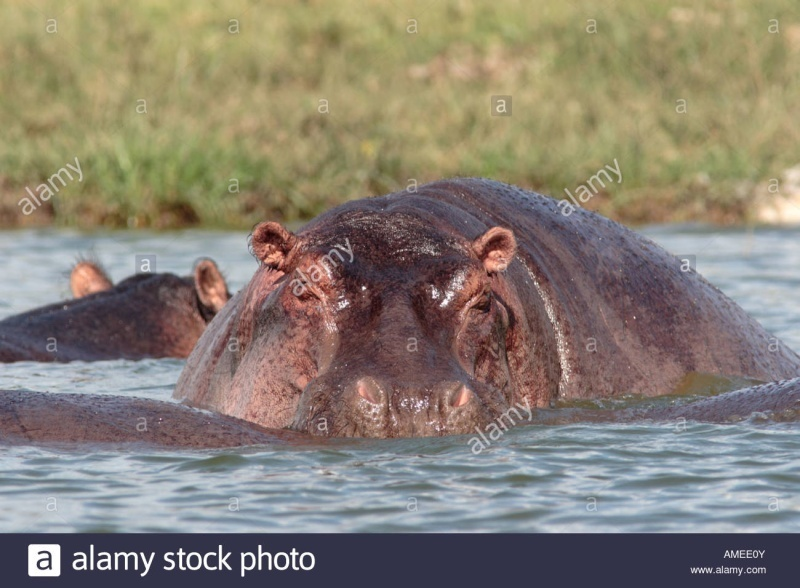hipopotamo: (164, 166, 800, 465)
